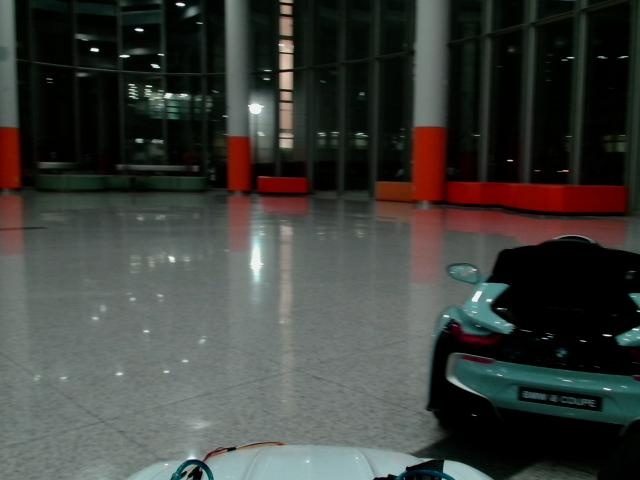car: (427, 235, 640, 449)
